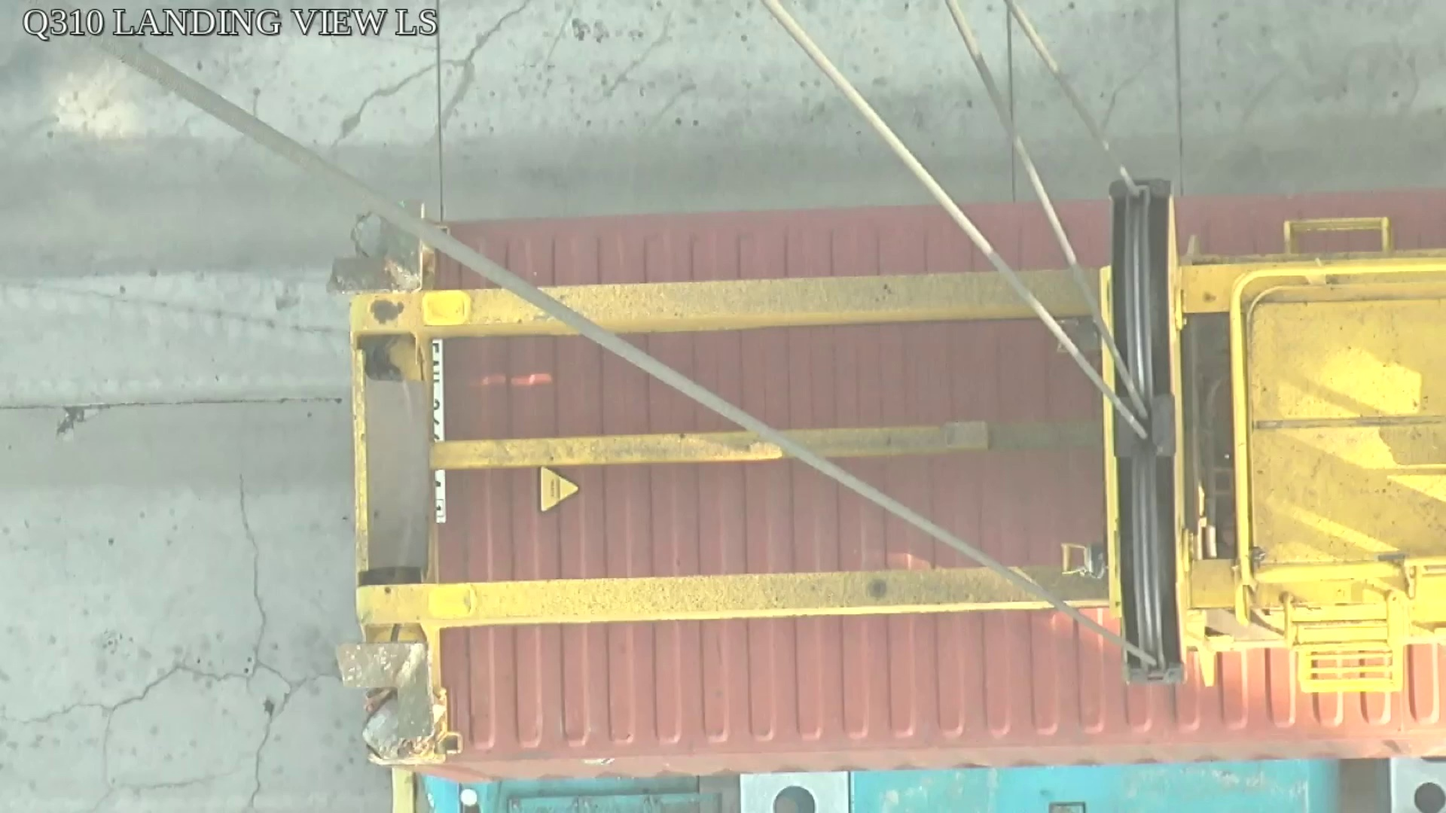aa: (1106, 180, 1191, 688)
